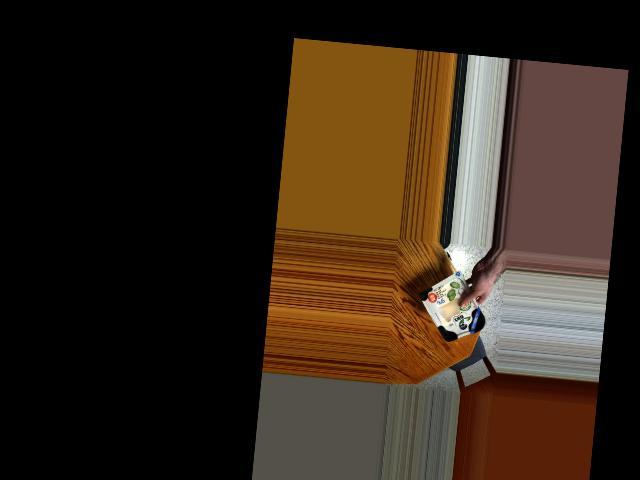cheese: (419, 279, 492, 342)
